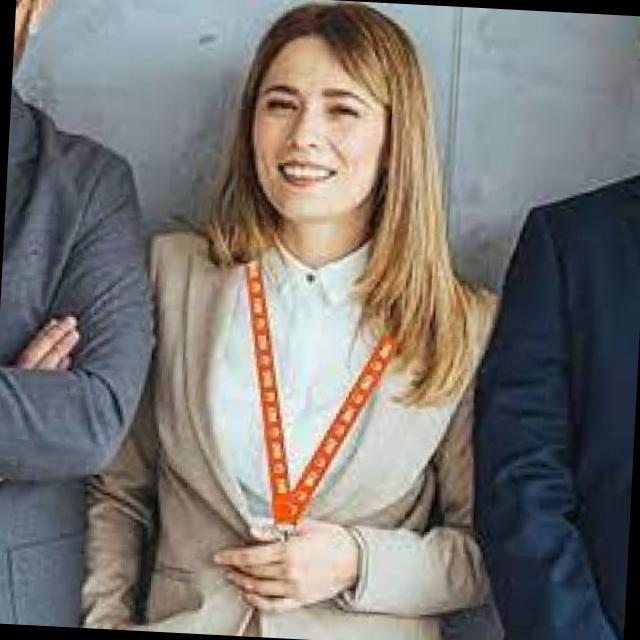id_card: (224, 261, 395, 548)
